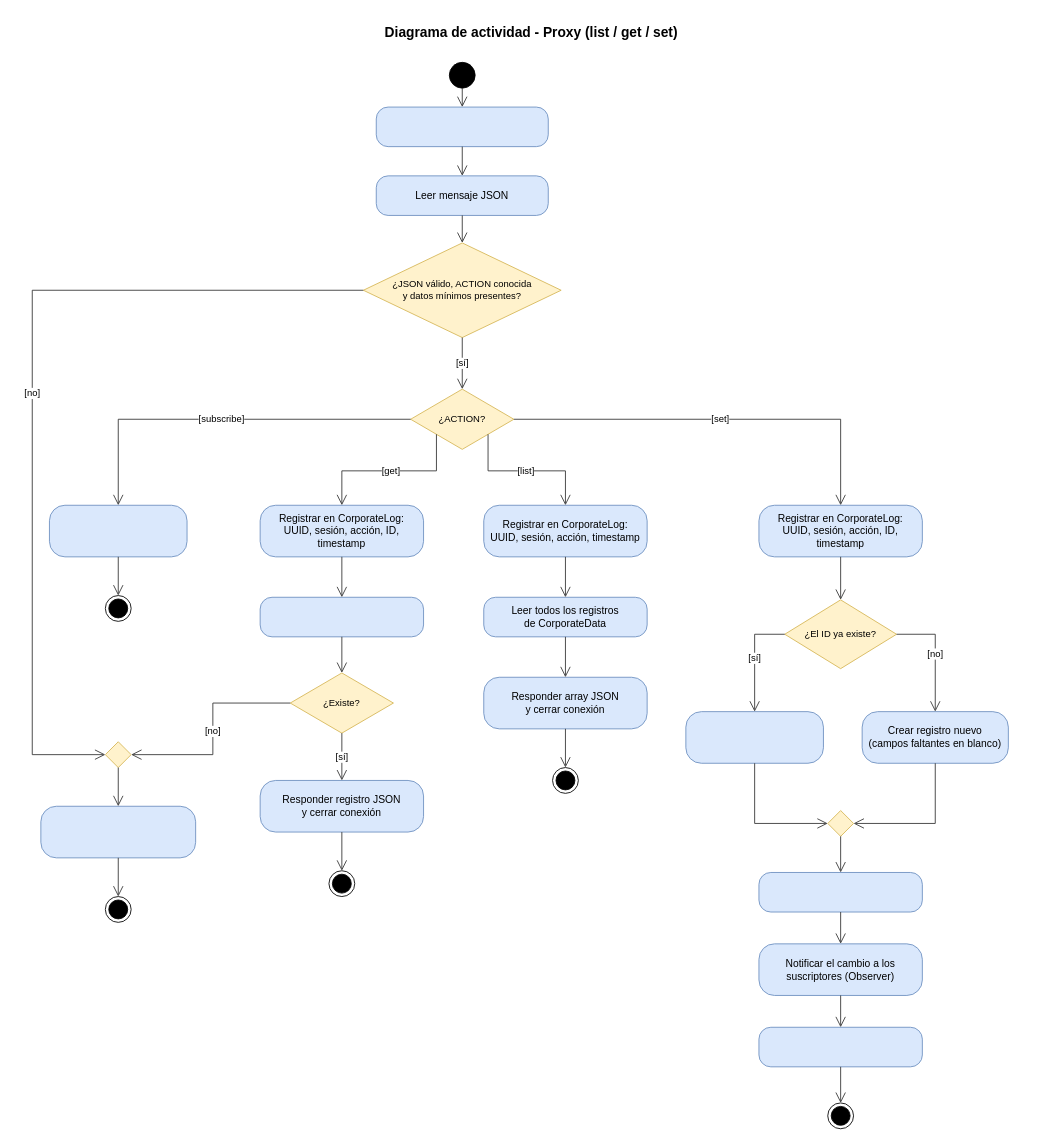
Some shapes in this 1061 by 1144 pixel diagram are drawn without their labels. Each missing label, with the centre of its shape:
Actualizar solo los campos informados: the point at 754,737
Buscar registro por ID: the point at 341,616
Cerrar conexión: the point at 840,1046
Delegar en el Observer (ver diagrama de estados): the point at 118,530
Recibir conexión TCP: the point at 461,126
Responder JSON de error y cerrar conexión: the point at 118,831
Responder registro actualizado: the point at 840,892
